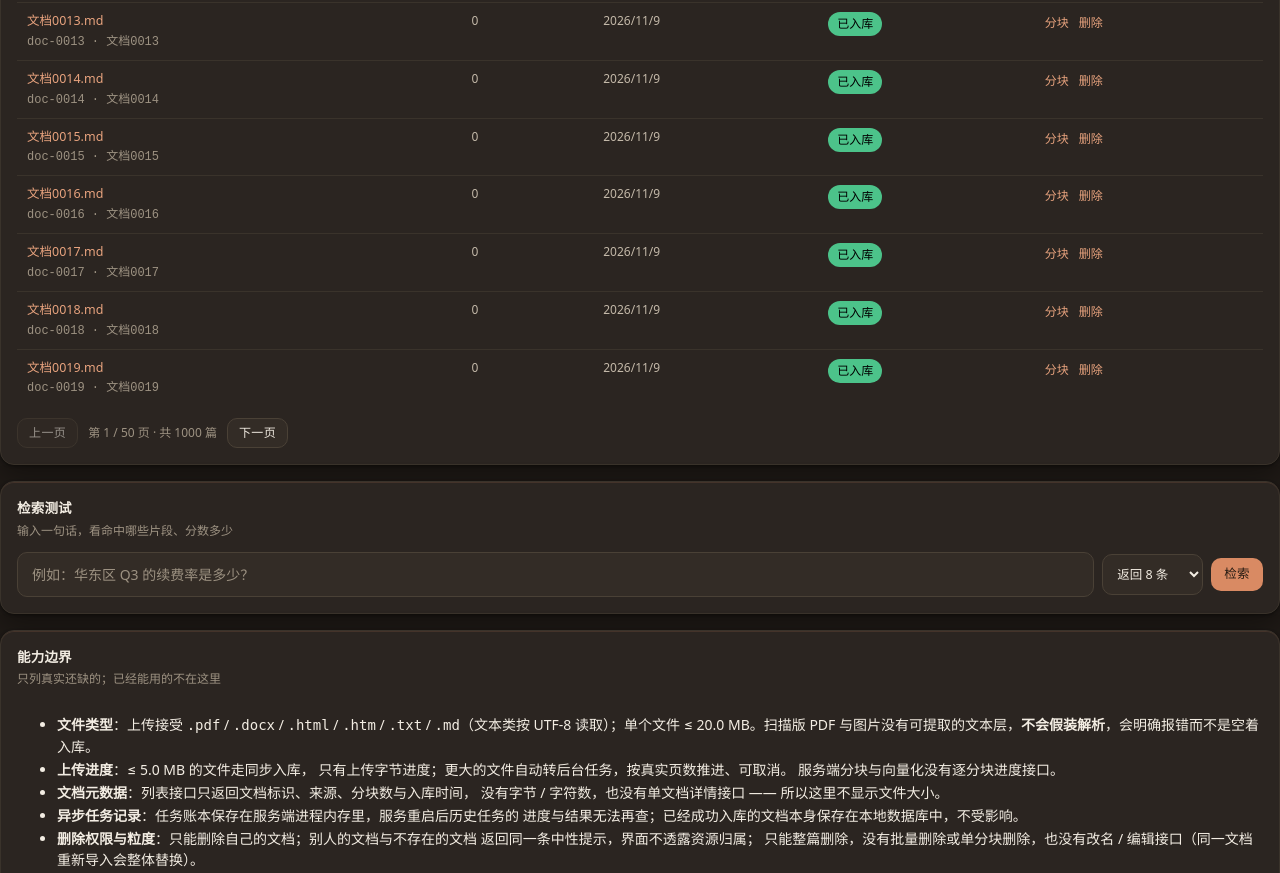
Test: 知识库文档搜索 › 在第 2 页搜索时回到第 1 页，并显示第 1 页的命中
Later steps or results of the test are not shown.
(page scrolled)
Click the button "下一页": (258, 433) x1=227 y1=418 x2=288 y2=448
(page scrolled)
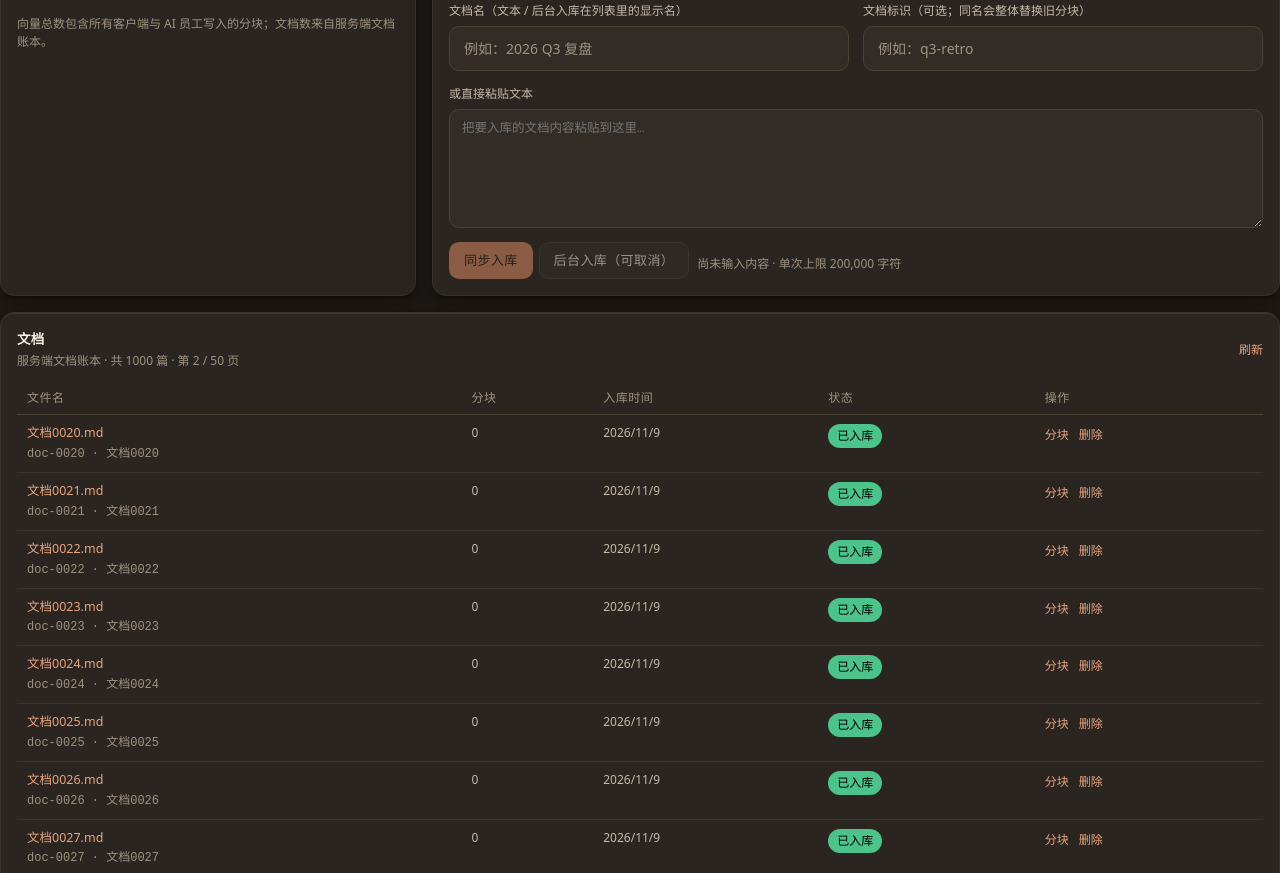
Now the button "文档0020.md" is shown, box x1=27 y1=424 x2=103 y2=443
